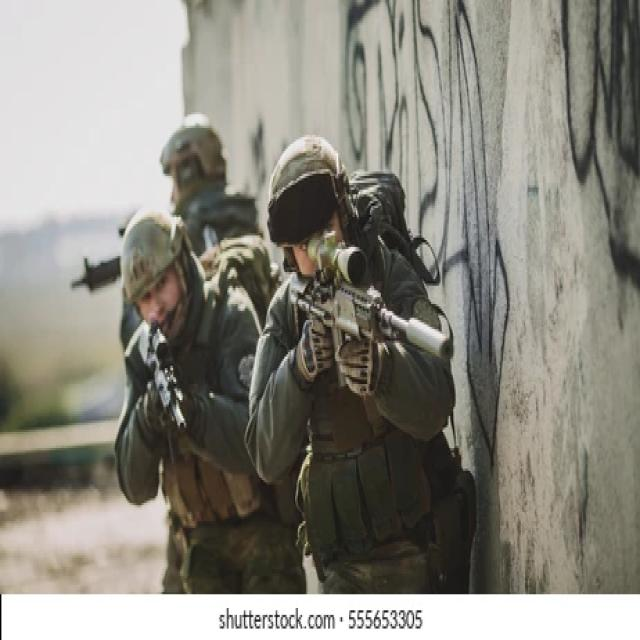soldier: (249, 126, 480, 592), (114, 212, 248, 597)
